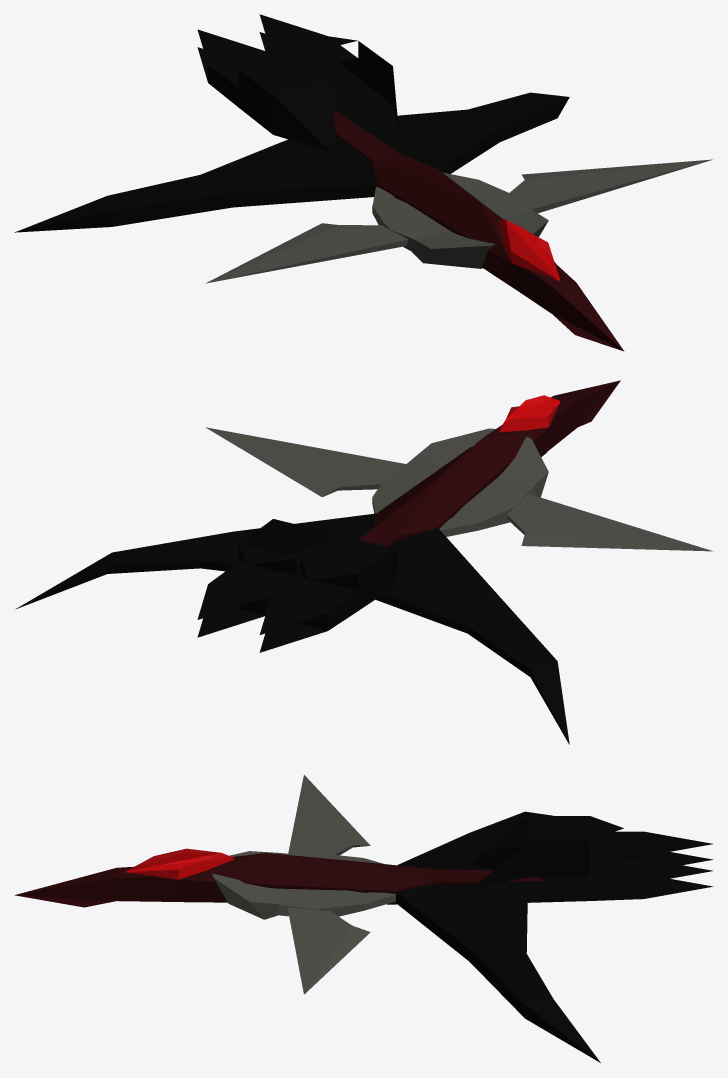
Rendered from Andromeda.fbx.
The picture shows the model from 3 angles, top to bottom: view 1: azimuth 30°, elevation 25°; view 2: azimuth 150°, elevation 25°; view 3: azimuth 270°, elevation 25°; orthographic projection. The views are drawn at different scales.
Visible parts, largest first — view 1: Andromeda; view 2: Andromeda; view 3: Andromeda.
Boxes of the visible parts, x1=… form: Andromeda: x1=14, y1=14, x2=712, y2=351; Andromeda: x1=15, y1=380, x2=712, y2=744; Andromeda: x1=14, y1=775, x2=712, y2=1062.
Size of the model in its own units: 164 by 32.18 by 201.
